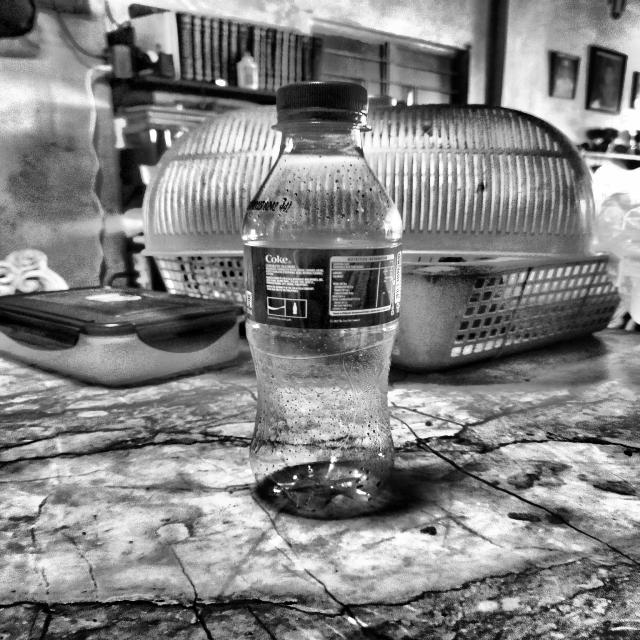Plastic-Bottle: (239, 78, 405, 520)
